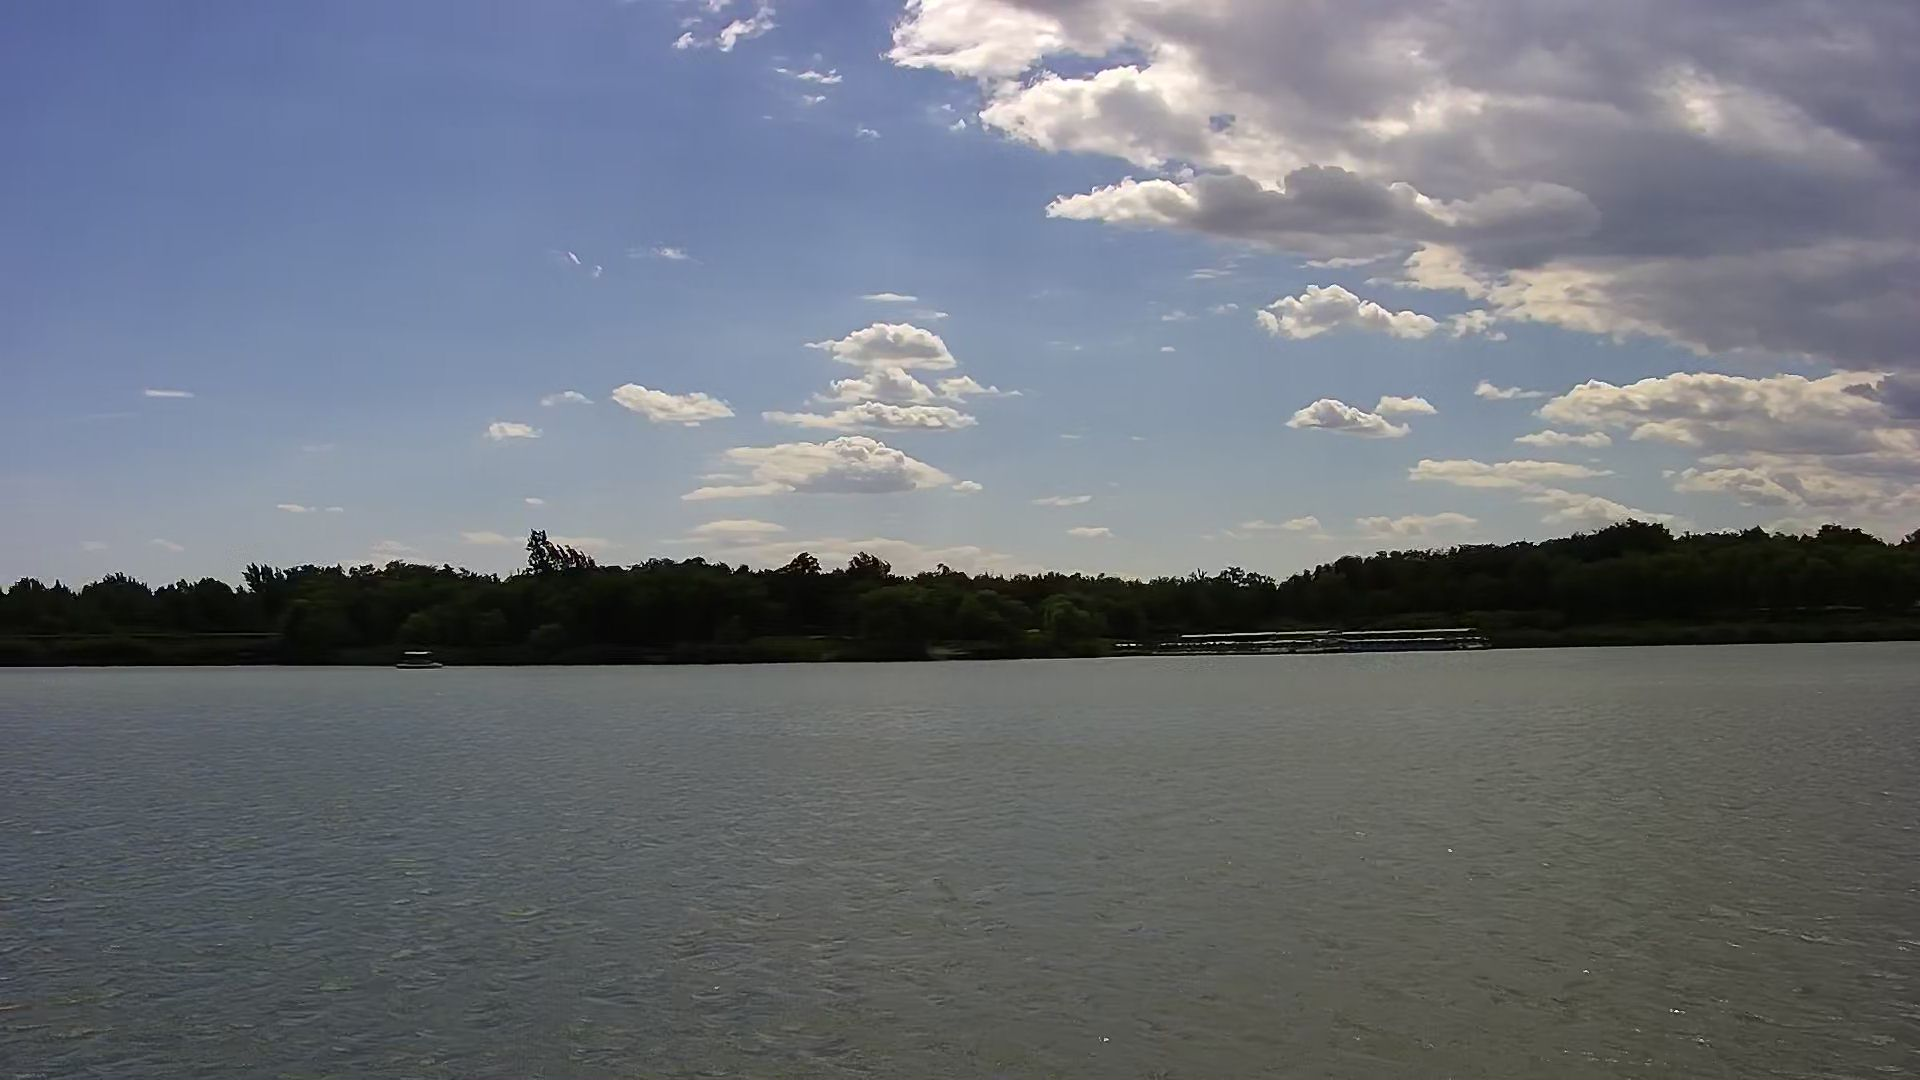boat: (392, 638, 442, 673)
harbor: (1141, 626, 1490, 658)
